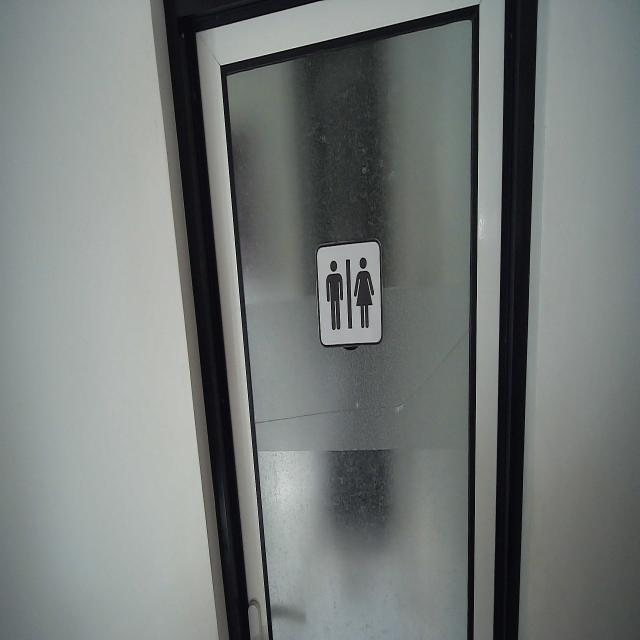restroom: (314, 234, 386, 350)
